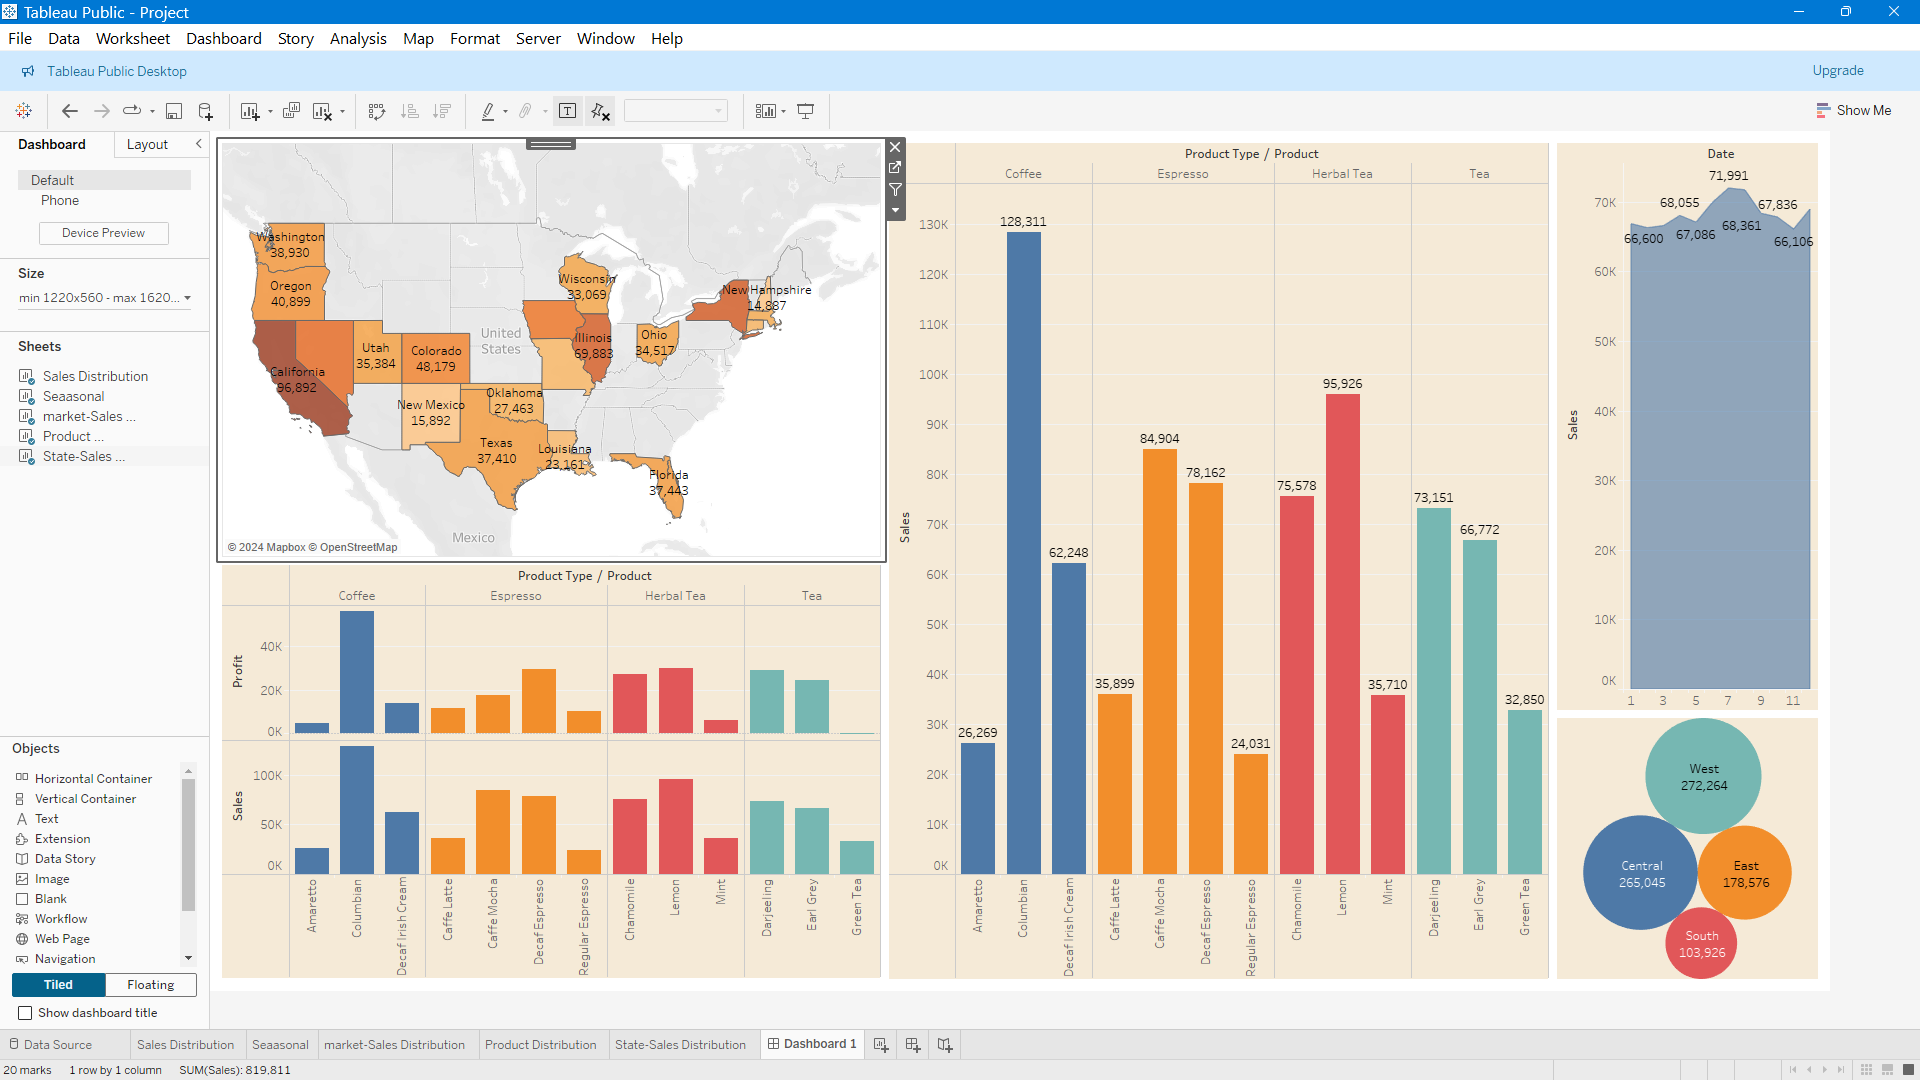

The page's visual inventory and layout, read from the dashboard file:
{"tool":"tableau","page":{"name":"Dashboard 1","canvas":[1000,1000],"units":"permille","ordinal":0},"visuals":[{"type":"worksheet","title":"State-Sales Distribution","mark":"Automatic","box":[6.5,12.3,384,487.7]},{"type":"worksheet","title":"Sales Distribution","mark":"Automatic","rows":["Sales"],"cols":["Product Type","Product"],"box":[390.5,12.3,384.1,975.4]},{"type":"worksheet","title":"Seaasonal","mark":"Area","rows":["Sales"],"cols":["Date"],"box":[774.6,12.3,218.9,562.2]},{"type":"worksheet","title":"Product Distribution","mark":"Automatic","rows":["Profit","Sales"],"cols":["Product Type","Product"],"box":[6.5,500,384,487.7]},{"type":"worksheet","title":"market-Sales Distribution","mark":"Circle","box":[774.6,574.5,218.9,413.2]}]}

Visuals, with their boxes on the dashboard's canvas, which has no fixed pixel size, in thousandths of its width and height (x1, y1, x2, y2). These are canvas units, not pixel positions in the 1920x1080 screenshot, which may show the page scaled, cropped or inside an application window:
"State-Sales Distribution" worksheet: <box>6,12,390,500</box>
"Sales Distribution" worksheet: <box>390,12,775,988</box>
"Seaasonal" worksheet (Area marks): <box>775,12,994,574</box>
"Product Distribution" worksheet: <box>6,500,390,988</box>
"market-Sales Distribution" worksheet (Circle marks): <box>775,574,994,988</box>
